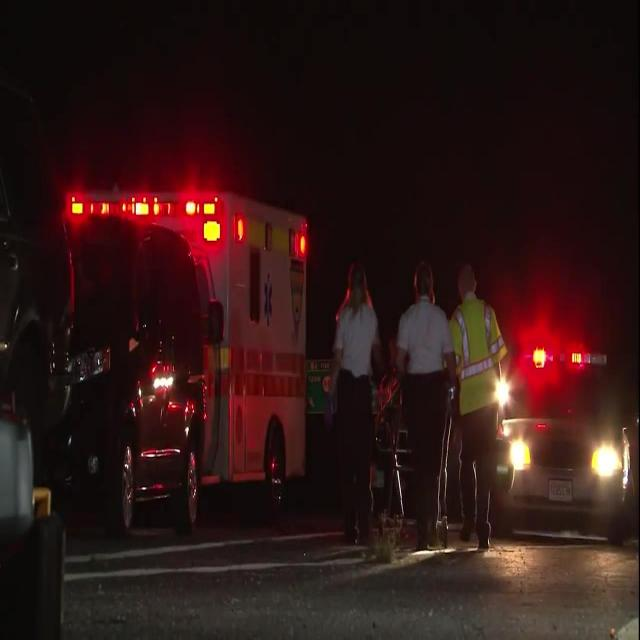Reflective-Jacket: (444, 298, 511, 425)
